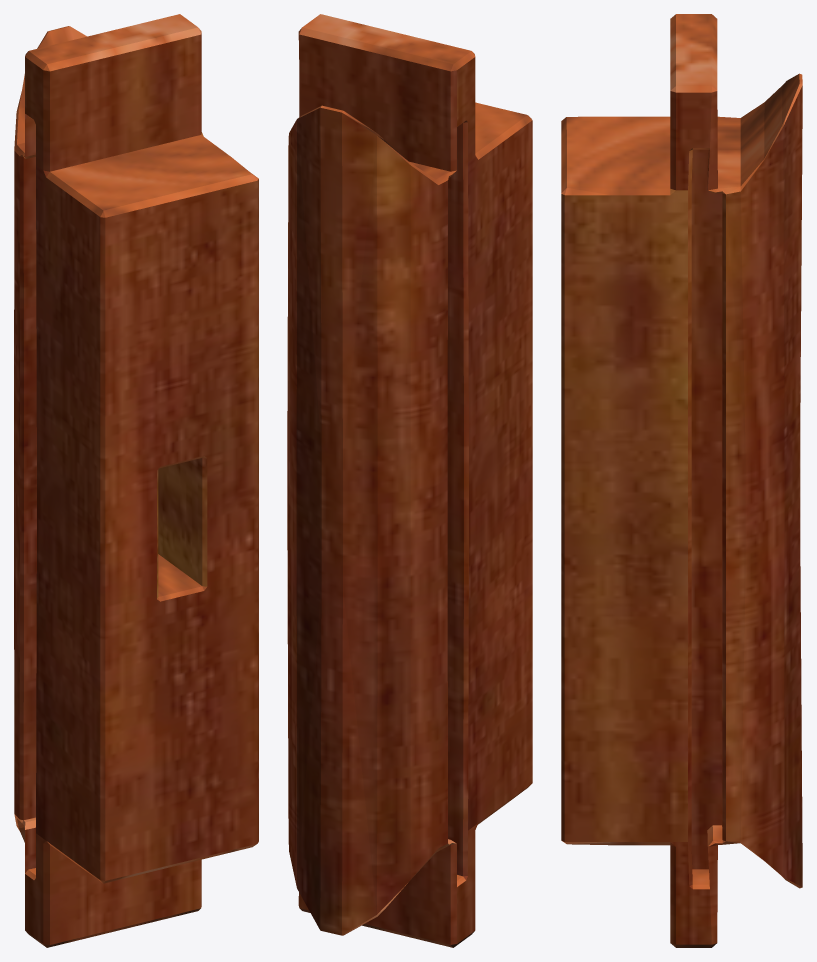
File: SJ_J_zhongshugn.FBX
3 renders of one model, left to right at view 1: azimuth 30°, elevation 25°; view 2: azimuth 150°, elevation 25°; view 3: azimuth 270°, elevation 25°, orthographic. The views are drawn at different scales.
Visible parts, largest first — view 1: SJ_J_zhongshugn; view 2: SJ_J_zhongshugn; view 3: SJ_J_zhongshugn.
Boxes of the visible parts, x1,y1,x2,y2 form: SJ_J_zhongshugn: [14, 14, 258, 947]; SJ_J_zhongshugn: [287, 14, 532, 947]; SJ_J_zhongshugn: [561, 14, 802, 947].
Size of the model in its own units: 2.99 by 15.95 by 4.05.
